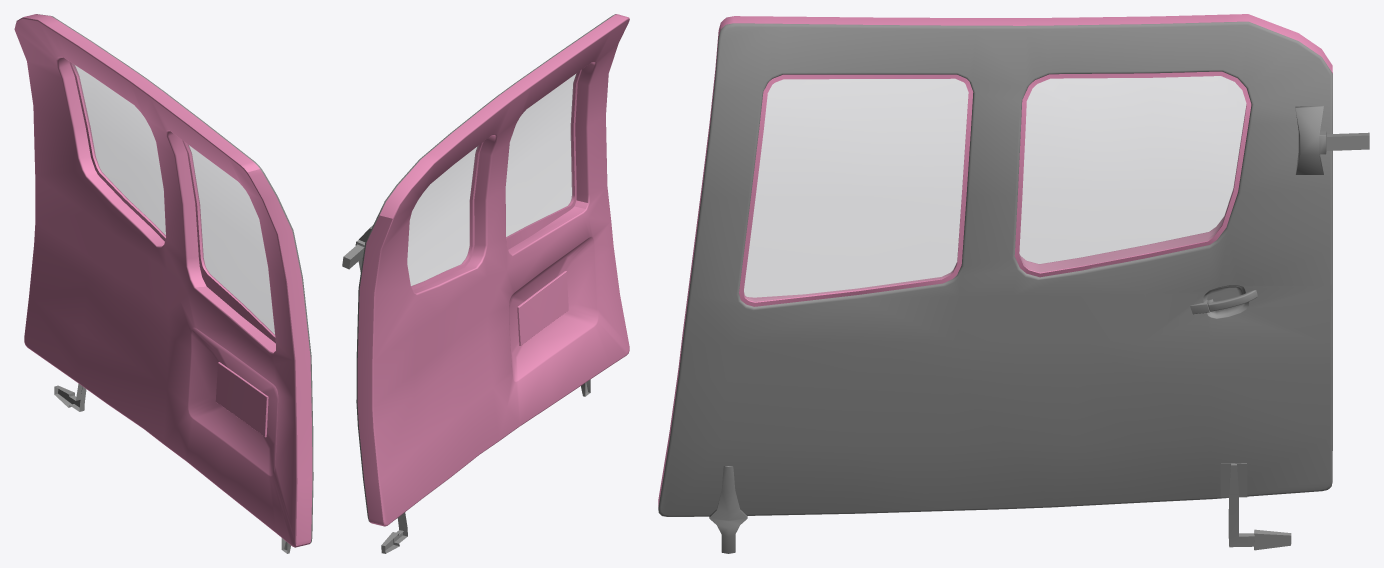
The model's file is H155_men03.FBX.
The picture shows the model from 3 angles, left to right: view 1: azimuth 30°, elevation 25°; view 2: azimuth 150°, elevation 25°; view 3: azimuth 270°, elevation 25°; orthographic projection. The views are drawn at different scales.
Visible parts, largest first — view 1: H155_men03; view 2: H155_men03; view 3: H155_men03.
Part boxes in pixels (x1,y1,x2,y2): H155_men03: (14, 14, 313, 553); H155_men03: (342, 14, 629, 553); H155_men03: (658, 14, 1369, 553).
Bounding box in the file's own units: 0.1989 × 1.32 × 1.66.
